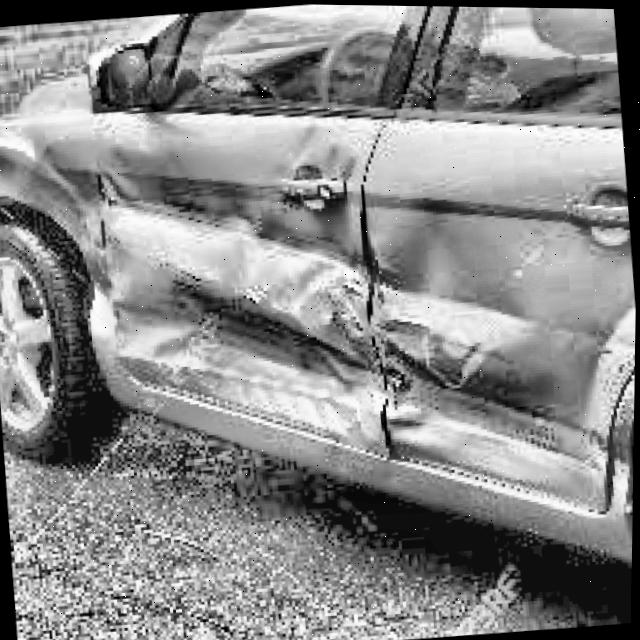door_dent: (96, 136, 384, 463), (365, 233, 614, 526)
